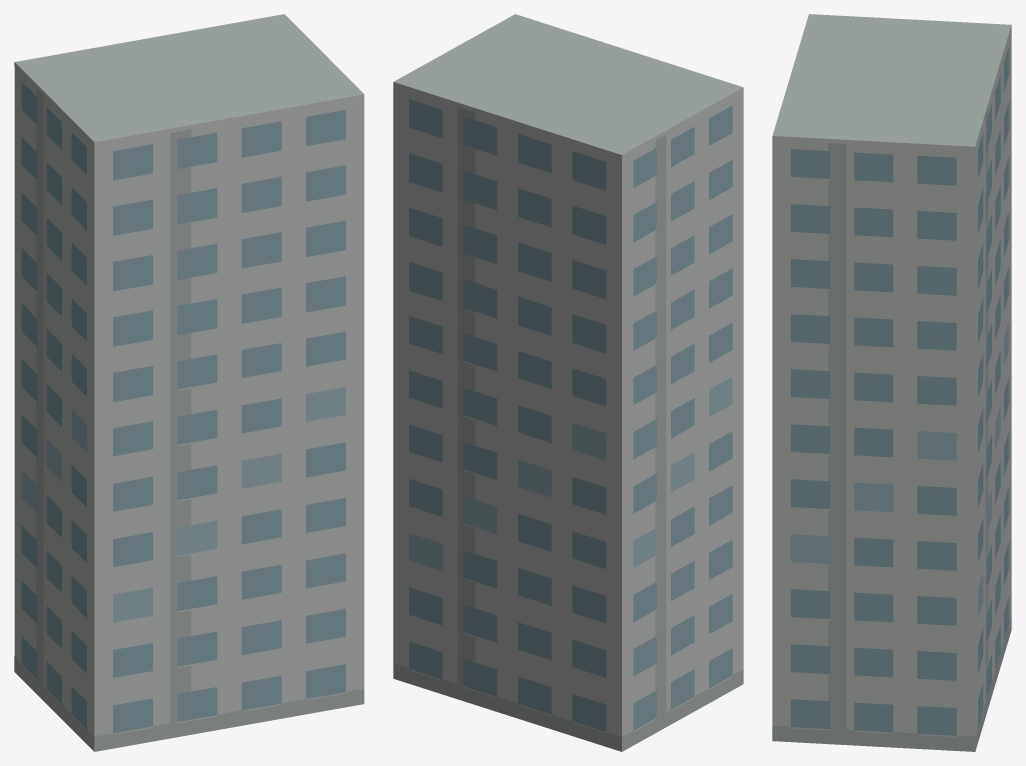
The model's file is residential-e7c88f23-c92a-412e-a28e-f3926aaf6d66.glb.
3 renders of one model, left to right at view 1: azimuth 30°, elevation 25°; view 2: azimuth 150°, elevation 25°; view 3: azimuth 270°, elevation 25°, orthographic. The views are drawn at different scales.
Parts seen in each view (by area): view 1: residential-e7c88f23-c92a-412e-a28e-f3926aaf6d66.tmp; view 2: residential-e7c88f23-c92a-412e-a28e-f3926aaf6d66.tmp; view 3: residential-e7c88f23-c92a-412e-a28e-f3926aaf6d66.tmp.
Boxes of the visible parts, x1,y1,x2,y2 form: residential-e7c88f23-c92a-412e-a28e-f3926aaf6d66.tmp: (14,14,364,751); residential-e7c88f23-c92a-412e-a28e-f3926aaf6d66.tmp: (393,14,743,751); residential-e7c88f23-c92a-412e-a28e-f3926aaf6d66.tmp: (772,14,1011,751).
Bounding box in the file's own units: 16.47 × 35 × 12.55.
